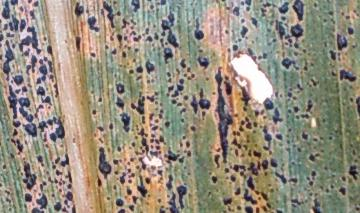tarspot: (216, 66, 233, 163), (22, 162, 37, 189), (8, 84, 18, 119), (99, 147, 111, 174), (136, 174, 147, 197), (339, 68, 357, 82), (168, 29, 181, 47), (4, 39, 15, 60), (292, 1, 304, 20), (243, 189, 258, 204), (120, 112, 131, 132), (167, 191, 177, 213), (177, 186, 186, 210), (19, 108, 34, 122), (22, 123, 37, 137), (189, 93, 199, 114), (290, 23, 304, 38), (163, 147, 178, 161), (197, 55, 210, 71), (195, 17, 204, 40), (87, 15, 99, 32), (246, 161, 259, 176), (241, 86, 251, 105), (336, 33, 347, 50), (274, 171, 288, 184), (273, 107, 283, 125), (36, 195, 48, 210), (137, 92, 145, 114), (348, 165, 359, 180), (164, 47, 173, 65), (263, 124, 272, 142), (56, 120, 64, 140), (2, 1, 10, 20), (145, 59, 155, 74), (160, 19, 173, 30), (74, 2, 84, 16), (60, 153, 70, 167), (312, 198, 321, 213), (18, 97, 31, 107), (278, 1, 288, 14), (264, 97, 274, 110), (213, 154, 221, 170), (31, 31, 38, 49), (246, 176, 255, 190), (199, 98, 210, 109), (281, 57, 292, 68), (231, 137, 242, 148), (19, 35, 31, 45), (107, 12, 115, 27), (115, 82, 125, 94), (116, 95, 124, 110), (224, 81, 232, 96), (31, 54, 37, 73), (279, 20, 285, 39), (12, 14, 19, 30), (3, 60, 11, 74), (65, 170, 73, 184), (12, 75, 23, 85), (103, 1, 113, 12), (40, 96, 52, 105), (36, 154, 45, 166), (131, 1, 140, 13), (249, 17, 258, 28), (75, 36, 81, 52), (240, 26, 248, 38), (329, 49, 337, 61), (167, 174, 173, 190), (138, 157, 146, 169), (31, 207, 47, 213), (355, 96, 360, 115), (168, 10, 175, 23), (39, 65, 48, 75), (36, 86, 45, 96), (38, 121, 47, 131), (24, 192, 33, 202), (222, 197, 233, 205), (46, 44, 53, 56), (16, 139, 23, 151), (137, 128, 146, 137), (115, 198, 124, 207), (122, 18, 130, 28), (232, 7, 240, 17), (20, 18, 26, 31), (290, 198, 301, 205), (53, 83, 58, 98), (22, 48, 30, 57), (48, 133, 57, 141), (275, 133, 283, 142), (134, 149, 146, 155), (131, 195, 139, 204), (96, 175, 102, 187), (120, 172, 126, 184), (54, 202, 62, 211), (262, 159, 269, 169), (339, 186, 346, 196), (261, 191, 268, 201), (66, 191, 73, 201), (29, 9, 35, 20), (307, 99, 312, 112), (270, 159, 278, 167), (347, 27, 355, 35), (12, 120, 21, 127), (133, 35, 142, 42), (146, 95, 155, 102), (149, 150, 158, 157), (211, 175, 218, 184), (48, 61, 53, 73), (262, 2, 272, 8), (261, 8, 267, 18), (247, 47, 253, 57), (36, 105, 44, 112), (54, 156, 61, 164), (116, 34, 123, 42), (311, 78, 318, 86), (234, 187, 241, 195), (245, 206, 253, 213), (227, 206, 235, 213), (55, 169, 63, 176), (199, 87, 204, 98), (180, 59, 186, 68), (71, 204, 77, 213), (288, 178, 298, 183), (137, 66, 144, 73), (177, 84, 184, 91), (297, 83, 304, 90), (310, 170, 317, 177), (8, 22, 14, 30), (27, 26, 35, 32), (21, 85, 27, 93), (145, 36, 153, 42), (149, 113, 155, 121), (171, 91, 179, 97), (246, 122, 252, 130), (302, 132, 308, 140), (254, 151, 262, 157), (141, 138, 147, 146), (179, 155, 185, 163), (233, 164, 239, 172), (238, 164, 246, 170), (126, 187, 132, 195), (128, 172, 136, 178), (26, 64, 31, 73), (53, 116, 58, 125), (300, 114, 309, 119), (275, 19, 279, 30), (18, 45, 24, 52), (47, 120, 54, 126), (108, 35, 115, 41), (111, 47, 117, 54), (98, 137, 104, 144), (178, 78, 185, 84), (168, 85, 174, 92), (233, 44, 239, 51), (293, 42, 299, 49), (309, 154, 315, 161), (329, 17, 335, 24), (239, 170, 245, 177), (145, 177, 151, 184), (157, 170, 163, 177), (128, 205, 135, 211), (338, 143, 344, 150), (3, 23, 8, 31), (49, 74, 54, 82), (12, 128, 17, 136), (100, 9, 105, 17), (96, 126, 104, 131), (145, 27, 150, 35), (154, 32, 159, 40), (185, 140, 190, 148), (247, 149, 252, 157), (292, 65, 300, 70), (352, 148, 357, 156), (118, 208, 126, 213), (33, 1, 39, 7), (43, 56, 49, 62), (41, 76, 47, 82), (43, 133, 47, 142), (149, 4, 155, 10), (116, 146, 122, 152), (171, 99, 177, 105), (130, 141, 136, 147), (158, 126, 164, 132), (328, 10, 334, 16), (254, 189, 260, 195), (151, 165, 157, 171), (130, 157, 136, 163), (285, 146, 291, 152), (89, 52, 96, 57), (122, 51, 127, 58), (130, 31, 137, 36), (108, 122, 113, 129), (245, 5, 250, 12), (263, 52, 268, 59), (243, 144, 248, 151), (231, 175, 236, 182), (262, 205, 267, 212), (5, 198, 12, 203), (11, 1, 19, 5), (6, 33, 14, 37), (160, 38, 164, 46), (201, 111, 205, 119), (246, 135, 250, 143), (257, 161, 261, 169), (39, 184, 43, 192), (36, 49, 42, 54), (36, 78, 41, 84), (2, 163, 7, 169), (116, 11, 122, 16), (131, 19, 137, 24), (134, 47, 140, 52), (92, 109, 97, 115), (129, 69, 134, 75), (131, 103, 136, 109), (161, 31, 166, 37), (168, 77, 173, 83), (152, 125, 158, 130), (191, 126, 196, 132), (225, 74, 230, 80), (160, 136, 165, 142), (257, 55, 263, 60), (313, 2, 318, 8), (242, 106, 247, 112), (238, 127, 244, 132), (294, 106, 299, 112), (293, 50, 298, 56), (266, 28, 272, 33), (297, 147, 302, 153), (259, 109, 265, 114), (314, 152, 320, 157), (223, 167, 229, 172), (309, 180, 314, 186), (340, 176, 346, 181), (352, 44, 358, 49), (146, 145, 149, 155), (165, 160, 171, 165), (52, 164, 57, 170), (67, 183, 72, 189), (63, 207, 68, 213), (48, 177, 53, 183), (54, 178, 59, 184), (290, 160, 295, 166), (267, 41, 272, 47), (6, 75, 10, 82), (34, 113, 38, 120), (86, 7, 90, 14), (118, 42, 122, 49), (245, 1, 252, 5), (253, 121, 257, 128), (235, 149, 239, 156), (263, 146, 270, 150), (274, 91, 278, 98), (276, 209, 283, 213), (255, 206, 259, 213), (113, 184, 117, 191), (142, 115, 145, 124), (39, 59, 44, 64), (15, 89, 20, 94), (10, 153, 15, 158), (104, 44, 109, 49), (98, 97, 103, 102), (87, 100, 92, 105), (137, 75, 142, 80), (146, 79, 151, 84), (176, 69, 181, 74), (165, 122, 170, 127), (181, 108, 186, 113), (155, 139, 160, 144), (295, 114, 300, 119), (113, 159, 118, 164), (323, 18, 328, 23), (332, 72, 337, 77), (330, 184, 335, 189), (319, 185, 324, 190), (324, 166, 329, 171), (355, 206, 360, 211), (114, 170, 119, 175), (127, 179, 132, 184), (58, 188, 63, 193), (118, 158, 123, 163), (20, 6, 24, 12), (12, 43, 16, 49), (129, 25, 135, 29), (161, 1, 167, 5), (124, 35, 128, 41), (72, 137, 76, 143), (198, 49, 204, 53), (184, 95, 188, 101), (281, 16, 287, 20), (255, 110, 259, 116), (350, 97, 354, 103), (257, 195, 261, 201), (326, 188, 330, 194), (324, 42, 328, 48), (269, 150, 273, 156), (237, 205, 241, 211), (160, 209, 166, 213), (64, 200, 68, 206), (59, 176, 63, 182), (4, 190, 10, 194), (24, 203, 28, 209), (330, 174, 336, 178), (228, 46, 231, 53), (188, 151, 191, 158), (43, 36, 47, 41), (47, 105, 52, 109), (11, 138, 15, 143), (113, 1, 118, 5), (156, 7, 160, 12), (90, 90, 95, 94), (150, 79, 155, 83), (187, 67, 191, 72), (154, 91, 159, 95), (64, 39, 68, 44), (126, 61, 130, 66), (191, 73, 195, 78), (206, 77, 210, 82), (217, 148, 221, 153), (241, 18, 245, 23), (287, 39, 292, 43), (241, 120, 245, 125), (236, 132, 241, 136), (288, 127, 292, 132), (302, 48, 306, 53), (313, 138, 318, 142), (230, 1, 234, 6), (240, 153, 245, 157), (292, 204, 297, 208), (289, 43, 293, 48), (267, 203, 271, 208), (42, 181, 47, 185), (22, 156, 26, 161), (8, 207, 12, 212), (186, 171, 191, 175), (1, 34, 4, 40), (1, 52, 3, 61), (27, 1, 33, 4), (136, 125, 139, 131), (233, 130, 236, 136), (1, 182, 4, 188), (114, 73, 117, 79), (17, 152, 21, 156), (127, 46, 131, 50), (167, 72, 171, 76), (151, 43, 155, 47), (187, 75, 191, 79), (166, 93, 170, 97), (159, 114, 163, 118), (160, 109, 164, 113), (152, 133, 156, 137), (181, 119, 185, 123), (182, 135, 186, 139), (150, 139, 154, 143), (226, 6, 230, 10), (288, 92, 292, 96), (245, 117, 249, 121), (288, 109, 292, 113), (253, 130, 257, 134), (272, 38, 276, 42), (293, 96, 297, 100), (346, 15, 350, 19), (356, 13, 360, 17), (270, 188, 274, 192), (354, 159, 358, 163), (309, 192, 313, 196), (254, 144, 258, 148), (287, 140, 291, 144), (158, 199, 162, 203), (161, 205, 165, 209), (136, 164, 140, 168), (158, 150, 162, 154), (107, 196, 111, 200), (20, 172, 24, 176), (51, 193, 55, 197), (59, 182, 63, 186), (38, 192, 42, 196), (127, 161, 131, 165), (183, 165, 187, 169), (134, 136, 139, 139), (234, 114, 239, 117), (225, 29, 228, 34), (180, 142, 183, 147), (304, 66, 307, 71), (155, 146, 160, 149), (150, 144, 153, 149), (251, 39, 254, 44), (341, 11, 344, 16), (168, 193, 171, 198), (223, 210, 228, 213), (208, 190, 211, 195), (6, 137, 9, 141), (25, 140, 28, 144), (45, 144, 49, 147), (156, 1, 160, 4), (124, 44, 127, 48), (133, 58, 136, 62), (119, 64, 123, 67), (184, 73, 187, 77), (180, 92, 183, 96), (160, 102, 163, 106), (178, 103, 182, 106), (212, 92, 216, 95), (241, 1, 244, 5), (293, 60, 296, 64), (264, 115, 267, 119), (323, 118, 326, 122), (329, 137, 333, 140), (353, 9, 357, 12), (264, 172, 268, 175), (307, 177, 310, 181), (280, 93, 283, 97), (128, 168, 131, 172), (46, 170, 49, 174), (1, 19, 3, 24), (13, 6, 15, 11), (147, 1, 152, 3), (165, 42, 168, 45), (153, 49, 156, 52), (156, 119, 159, 122), (268, 143, 271, 146), (311, 63, 314, 66), (140, 146, 143, 149), (1, 43, 3, 47), (154, 24, 156, 28), (63, 180, 65, 184), (156, 102, 159, 104), (220, 1, 226, 2), (1, 30, 2, 33)
